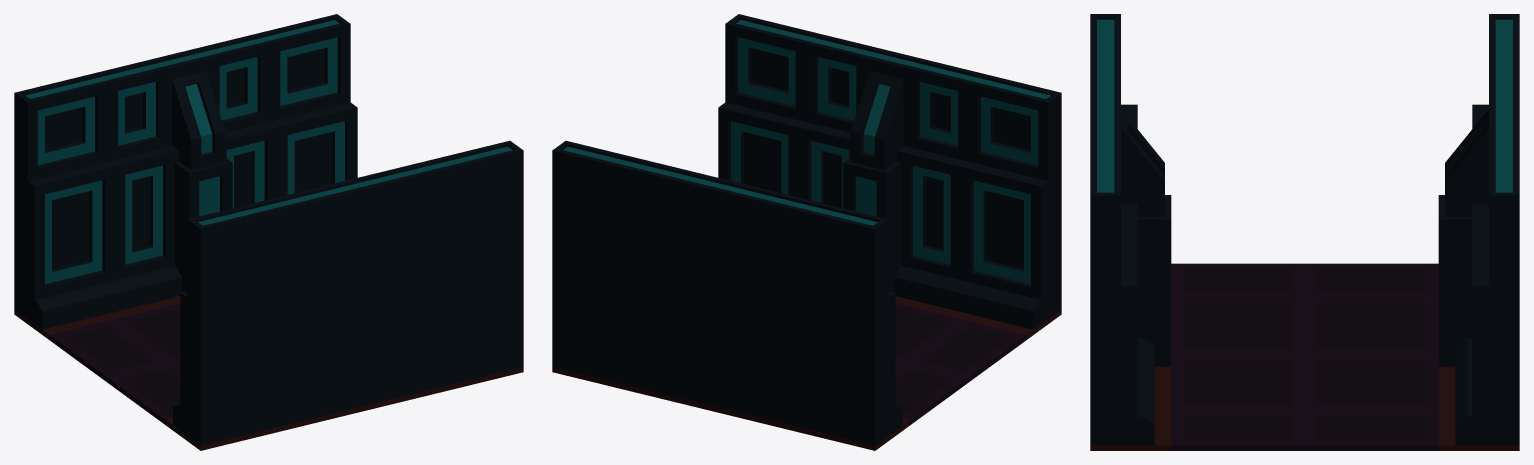
Rendered from StraightMaze.fbx.
The picture shows the model from 3 angles, left to right: view 1: azimuth 30°, elevation 25°; view 2: azimuth 150°, elevation 25°; view 3: azimuth 270°, elevation 25°; orthographic projection. The views are drawn at different scales.
Parts seen in each view (by area): view 1: Straight_way; view 2: Straight_way; view 3: Straight_way.
Part boxes in pixels (<box>): Straight_way: <box>14,14,523,450</box>; Straight_way: <box>552,14,1061,450</box>; Straight_way: <box>1090,14,1519,450</box>.
Size of the model in its own units: 1116 by 733 by 1116.
